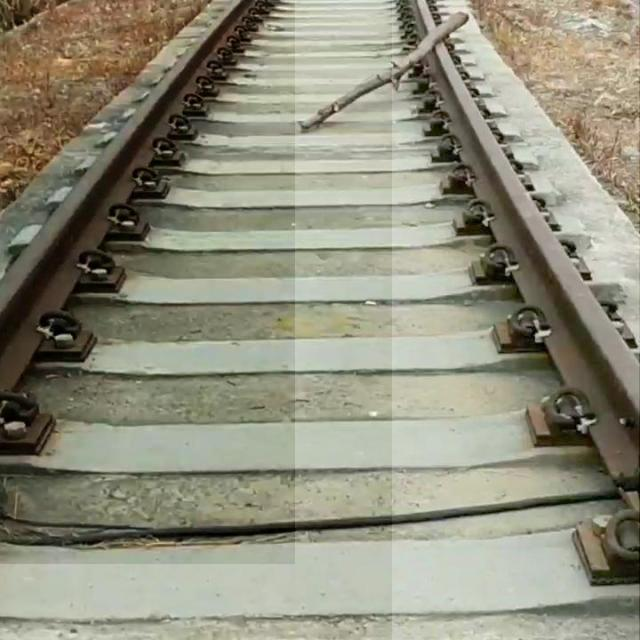rail: (1, 1, 296, 565), (393, 1, 640, 640)
